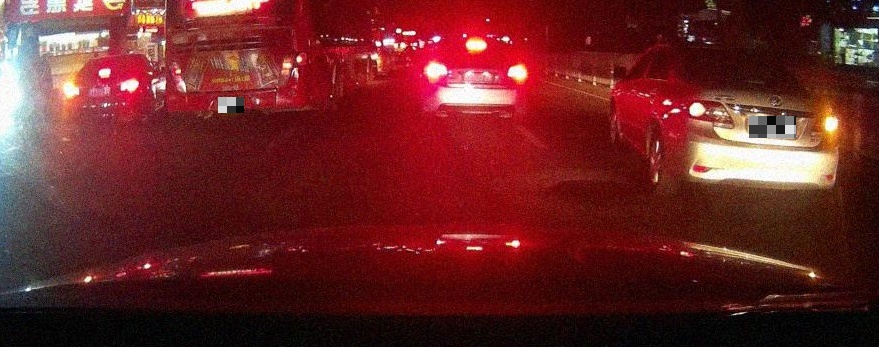L_light: (687, 99, 736, 129), (424, 66, 448, 77), (65, 84, 79, 97)
R_light: (810, 113, 838, 134), (119, 80, 140, 91), (507, 67, 526, 78)
T_light: (464, 40, 487, 51), (731, 51, 751, 57), (98, 69, 111, 76)
night-brake: (424, 34, 528, 119)
night-left: (65, 53, 153, 123)
night-right: (671, 44, 839, 205)
plate_1: (218, 97, 244, 113)
plate_2: (749, 116, 796, 138)
